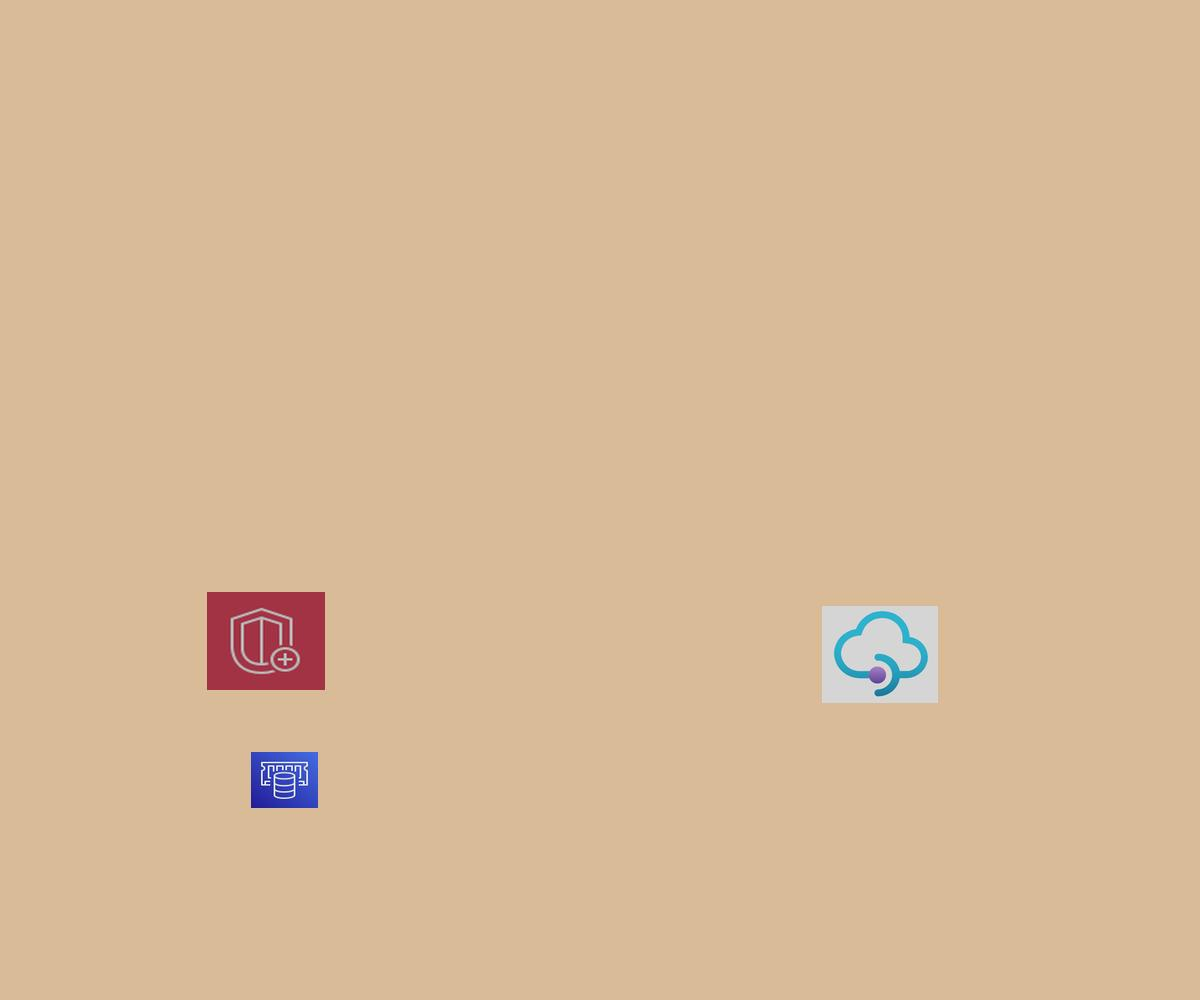AWS-ElastiCache: (251, 752, 318, 808)
AWS-Shield: (207, 592, 325, 690)
Azure_api_gateway: (822, 606, 938, 703)
